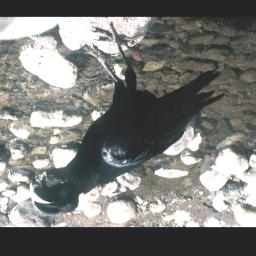Crow: (28, 22, 225, 217)
